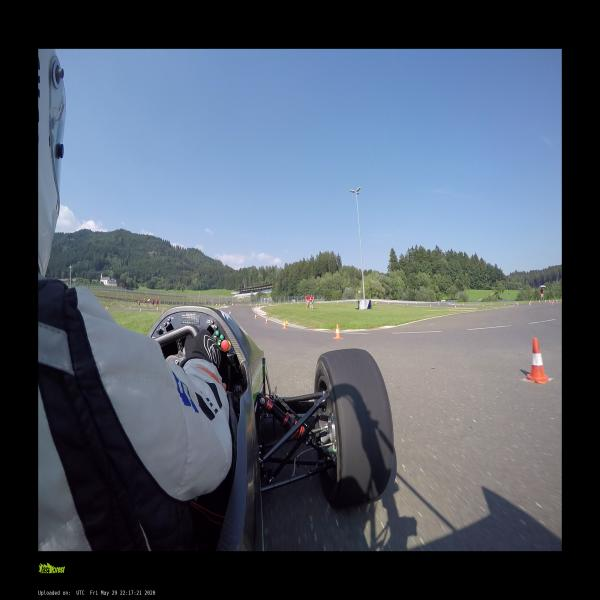orange_cone: (526, 338, 548, 384), (334, 324, 342, 339), (282, 320, 286, 329), (265, 317, 268, 323), (254, 314, 257, 318), (229, 310, 231, 314), (162, 309, 164, 313), (129, 306, 131, 309), (105, 306, 107, 309), (157, 307, 158, 311), (107, 306, 108, 310), (140, 308, 141, 312), (560, 300, 562, 302), (551, 302, 552, 304)
yellow_cone: (282, 320, 288, 326)
